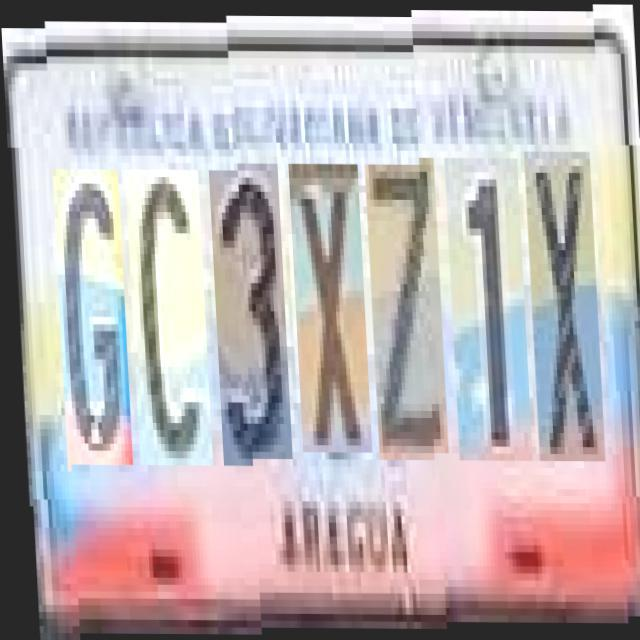1: (442, 157, 528, 460)
3: (206, 156, 288, 452)
C: (122, 156, 208, 452)
G: (50, 155, 128, 451)
X: (522, 150, 600, 460), (286, 157, 367, 446)
Z: (363, 157, 444, 453)
